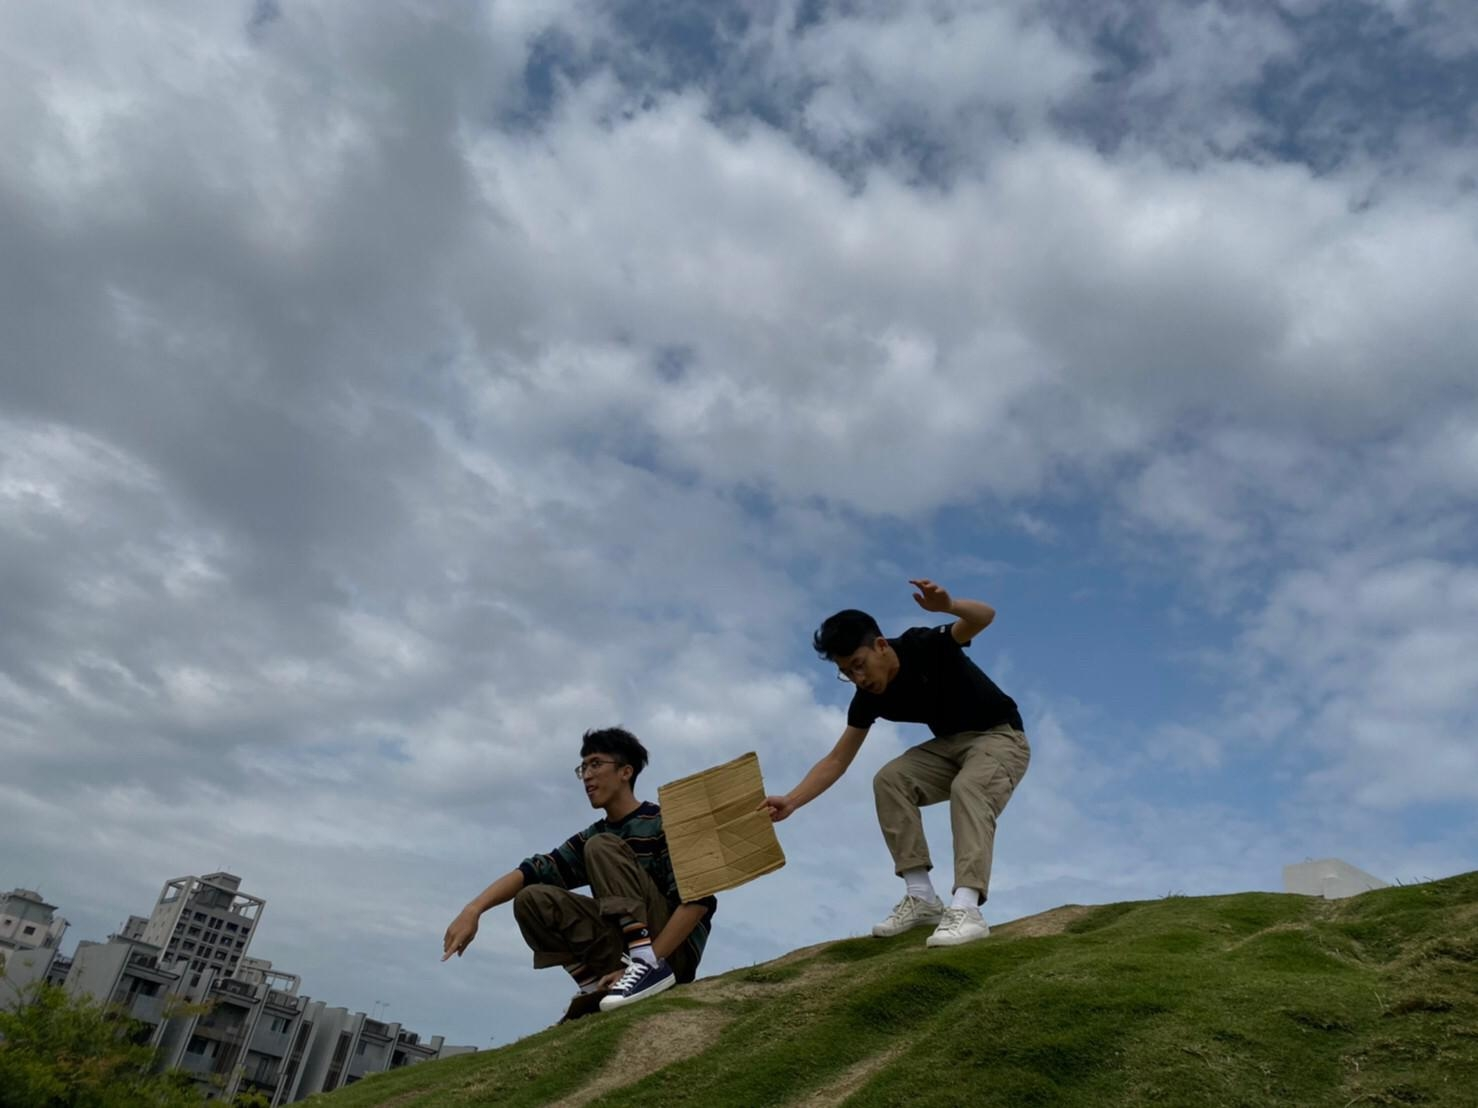people: (790, 600, 1046, 938), (538, 723, 704, 1007)
